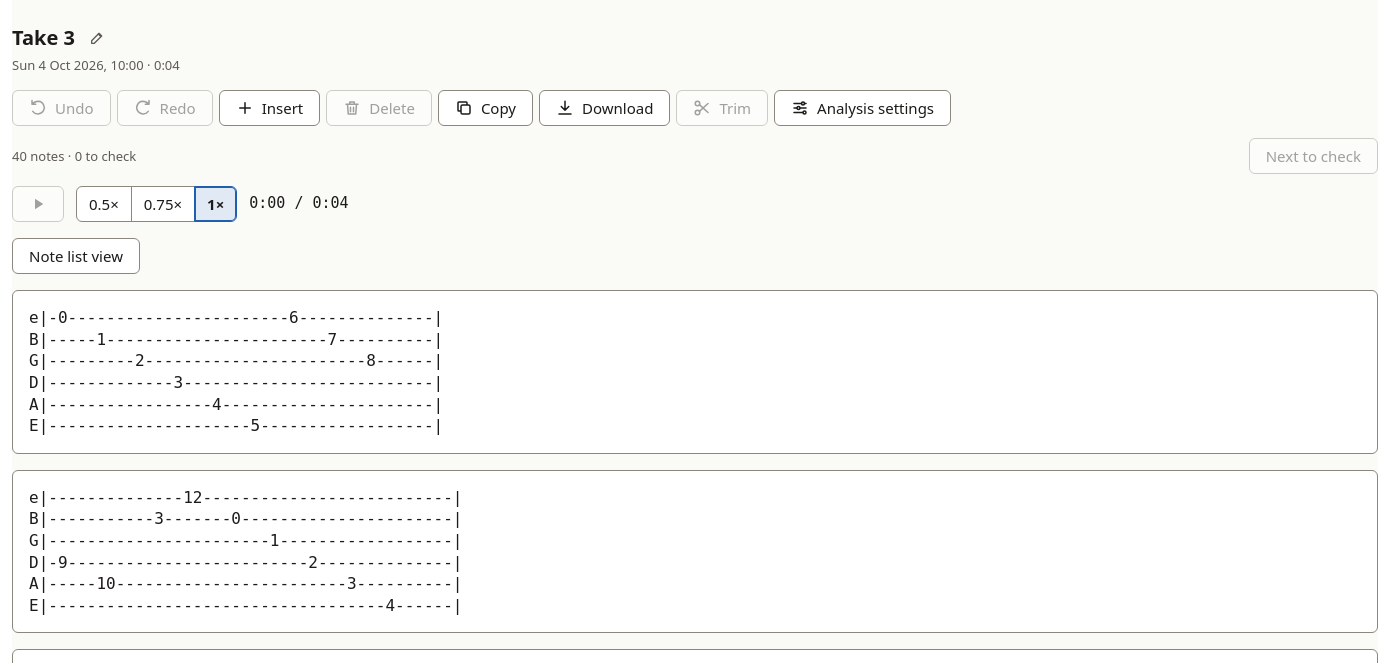
Tab screen tab area, header and selection › analysis settings and re-analysis › no audio: Re-analyse disabled with "No audio to analyse"
Click the button "Analysis settings" at (863, 108), box [774, 90, 951, 126]
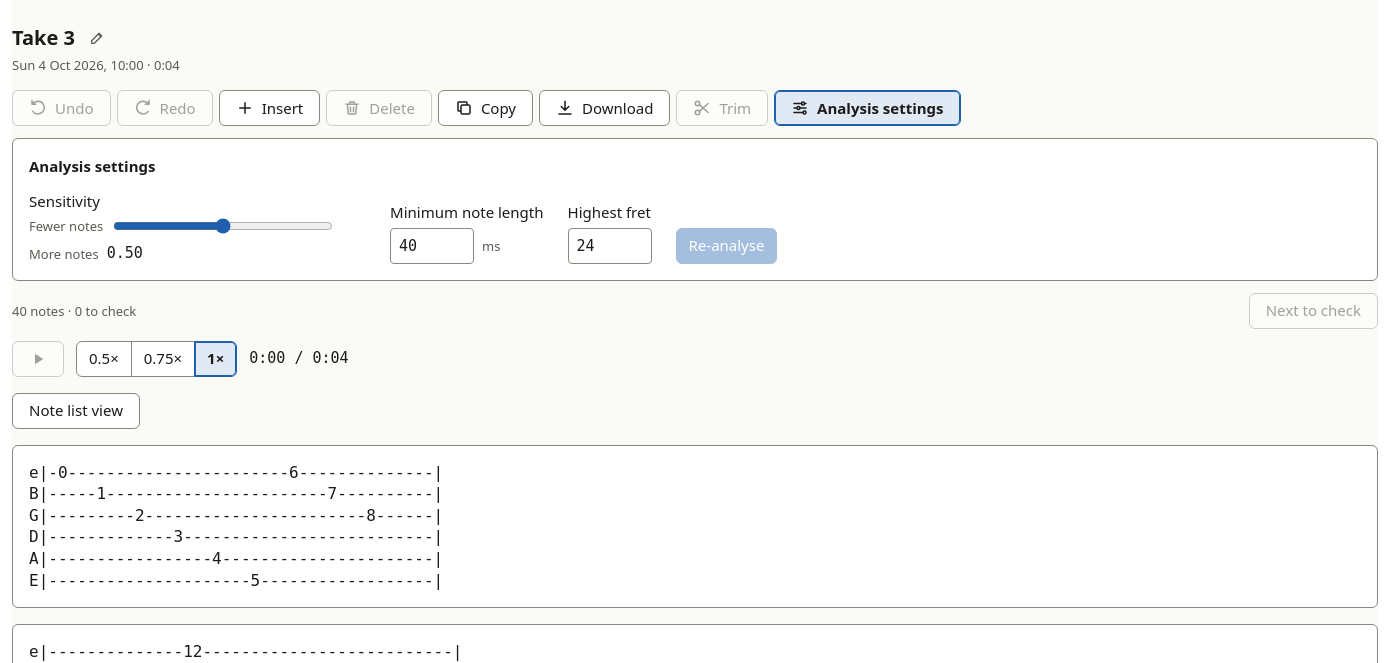
Check: the button "Re-analyse" is disabled, box [676, 228, 777, 264]
